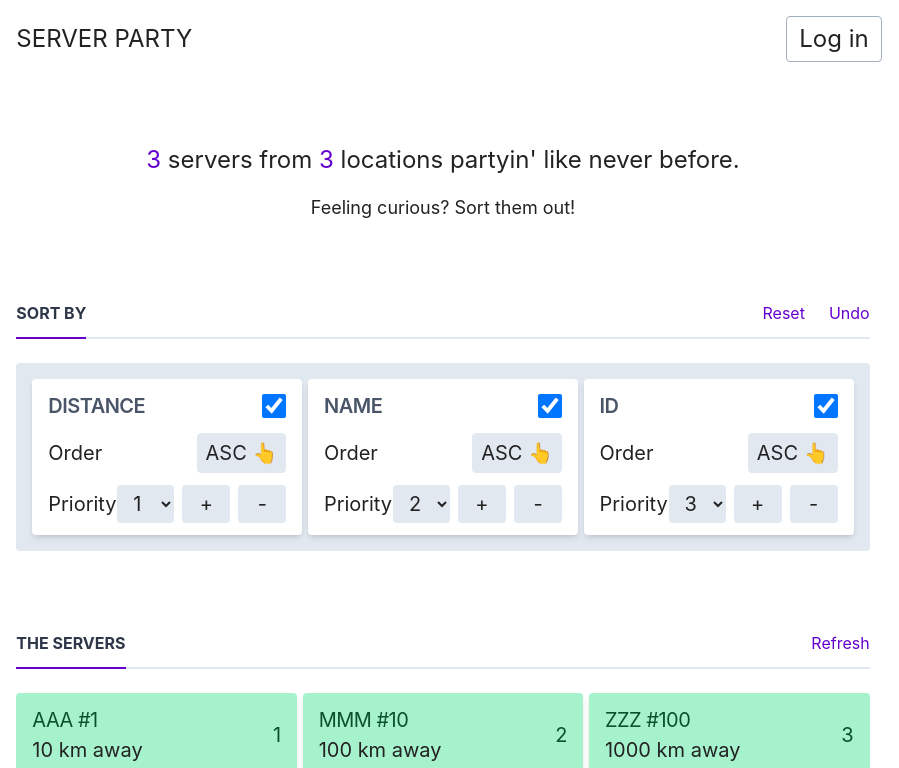
Test: Party sorting › Order › Can toggle order
Expected: the text with test id "server-id--1" reads "1", 273,723 -> 281,747
Expected: the text with test id "server-id--10" reads "2", 555,723 -> 567,747
Step 1. Click the button with test id "order--nth-1" → x=241, y=453, box 196,433 -> 286,473
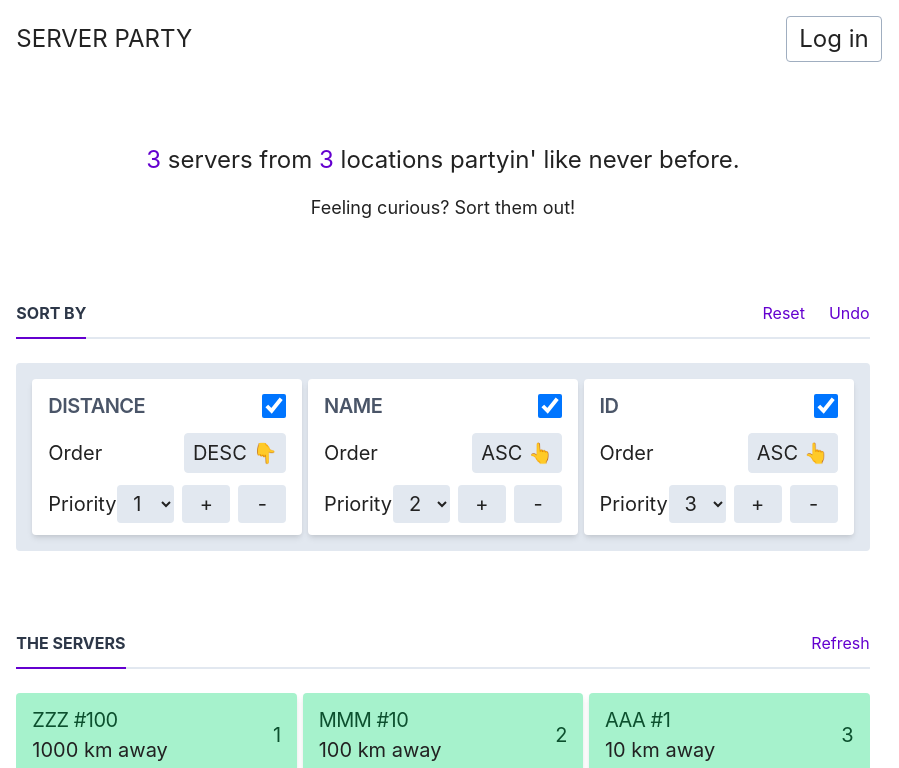
Expected: the text with test id "server-id--1" reads "3", 841,723 -> 854,747
Now the button with test id "order--nth-1" reads "DESC 👇", box 184,433 -> 286,473
